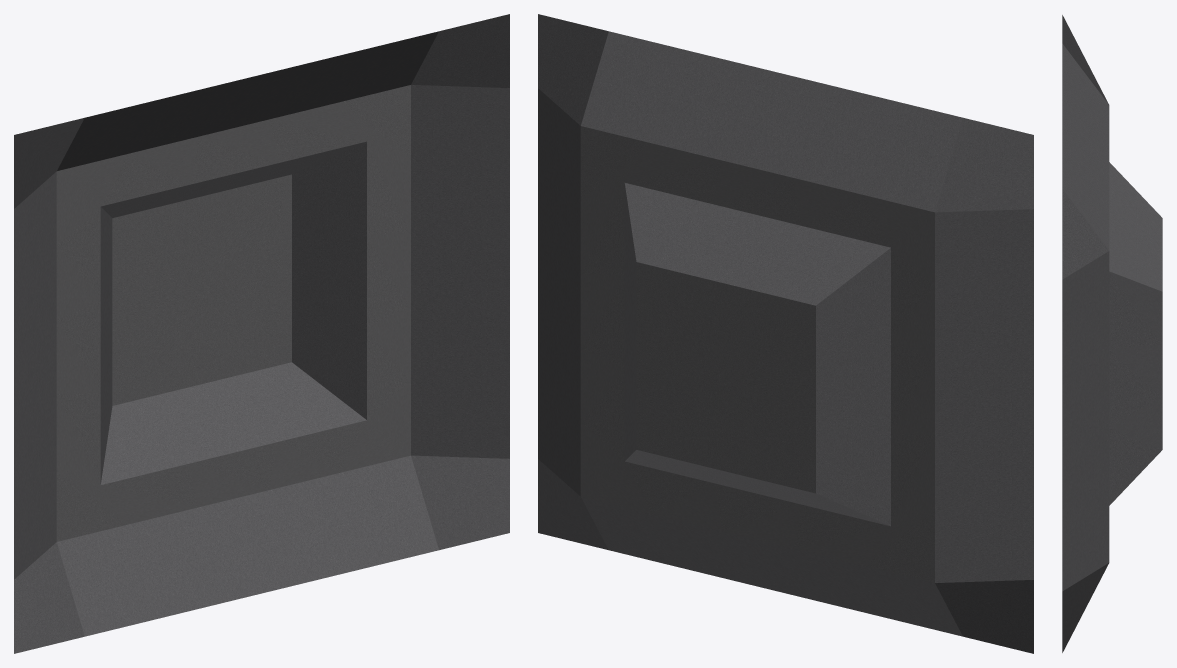
The model's file is pink_land_3.FBX.
The picture shows the model from 3 angles, left to right: view 1: azimuth 30°, elevation 25°; view 2: azimuth 150°, elevation 25°; view 3: azimuth 270°, elevation 25°; orthographic projection. The views are drawn at different scales.
Visible parts, largest first — view 1: Plane.003; view 2: Plane.003; view 3: Plane.003.
Boxes of the visible parts, left/top/right/bottom form: Plane.003: left=14, top=14, right=509, bottom=653; Plane.003: left=538, top=14, right=1033, bottom=653; Plane.003: left=1062, top=15, right=1162, bottom=652.
Size of the model in its own units: 1432 by 1432 by 299.
